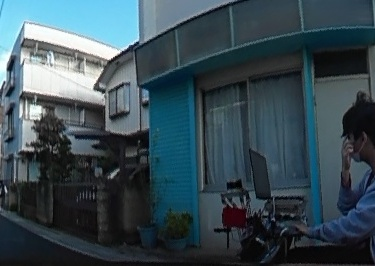person: (332, 96, 375, 266)
